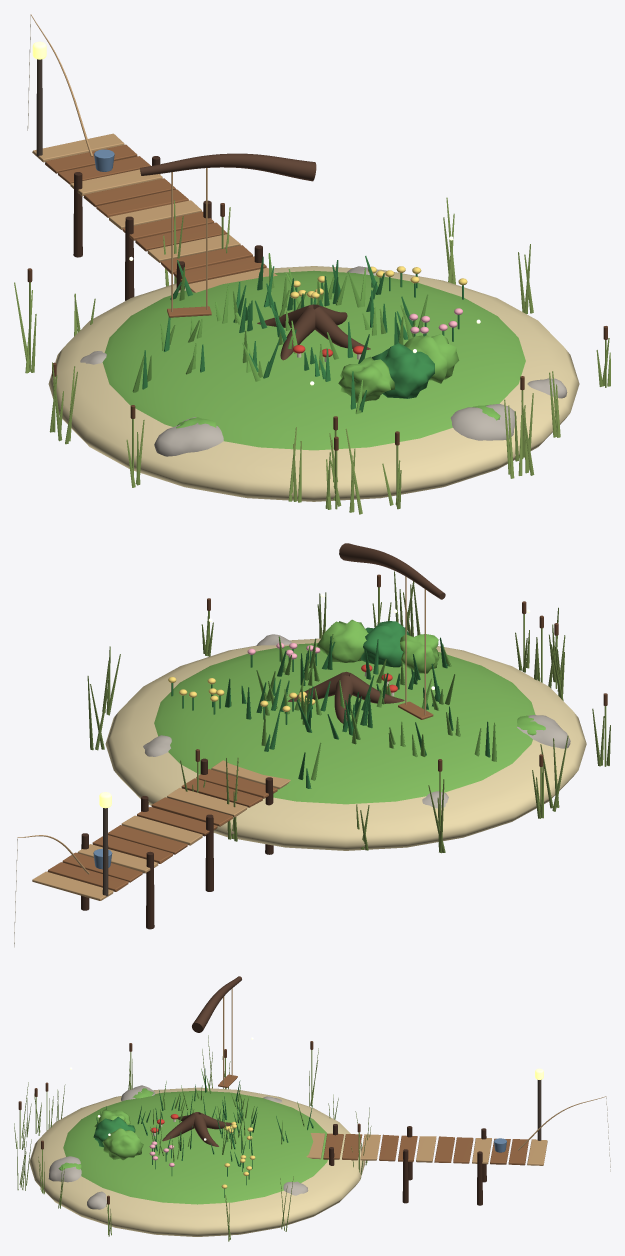
Rendered from islet_08.glb.
The picture shows the model from 3 angles, top to bottom: view 1: azimuth 30°, elevation 25°; view 2: azimuth 150°, elevation 25°; view 3: azimuth 270°, elevation 25°; orthographic projection. The views are drawn at different scales.
Parts seen in each view (by area): view 1: islet_grass.008, islet_sand.008, swing_branch.001, bush.025, rock.049, rock.051, bush.024, bush.026, jetty_plank.008, jetty_plank.007, jetty_plank.006, jetty_plank.012 (+13 smaller); view 2: islet_grass.008, islet_sand.008, bush.026, bush.025, swing_branch.001, bush.024, jetty_plank.006, jetty_plank.012, jetty_plank.003, jetty_plank.007, jetty_plank.004, jetty_plank.011 (+12 smaller); view 3: islet_grass.008, islet_sand.008, bush.026, swing_branch.001, rock.049, bush.025, jetty_plank.006, jetty_plank.008, jetty_plank.003, jetty_plank.007, jetty_plank.012, jetty_plank.004 (+6 smaller).
Boxes of the visible parts, left/top/right/bottom form: islet_grass.008: left=102, top=270, right=525, bottom=450; islet_sand.008: left=48, top=266, right=579, bottom=501; swing_branch.001: left=140, top=153, right=316, bottom=181; bush.025: left=372, top=343, right=434, bottom=398; rock.049: left=450, top=403, right=516, bottom=440; rock.051: left=154, top=417, right=223, bottom=456; bush.024: left=338, top=356, right=394, bottom=402; bush.026: left=404, top=334, right=459, bottom=383; jetty_plank.008: left=83, top=178, right=175, bottom=207; jetty_plank.007: left=96, top=189, right=188, bottom=217; jetty_plank.006: left=109, top=200, right=201, bottom=229; jetty_plank.012: left=32, top=133, right=124, bottom=162; islet_grass.008: left=154, top=643, right=535, bottom=804; islet_sand.008: left=105, top=638, right=586, bottom=850; bush.026: left=317, top=619, right=368, bottom=662; bush.025: left=360, top=621, right=409, bottom=667; swing_branch.001: left=339, top=543, right=445, bottom=599; bush.024: left=400, top=634, right=439, bottom=673; jetty_plank.006: left=121, top=815, right=202, bottom=845; jetty_plank.012: left=32, top=871, right=113, bottom=900; jetty_plank.003: left=167, top=788, right=247, bottom=817; jetty_plank.007: left=108, top=825, right=187, bottom=854; jetty_plank.004: left=151, top=797, right=232, bottom=826; jetty_plank.011: left=47, top=862, right=128, bottom=891; islet_grass.008: left=63, top=1090, right=327, bottom=1204; islet_sand.008: left=29, top=1087, right=365, bottom=1236; bush.026: left=102, top=1128, right=143, bottom=1160; swing_branch.001: left=192, top=976, right=241, bottom=1032; rock.049: left=48, top=1156, right=81, bottom=1182; bush.025: left=93, top=1116, right=135, bottom=1147; jetty_plank.006: left=416, top=1136, right=436, bottom=1162; jetty_plank.008: left=453, top=1137, right=473, bottom=1163; jetty_plank.003: left=360, top=1134, right=380, bottom=1160; jetty_plank.007: left=434, top=1136, right=454, bottom=1162; jetty_plank.012: left=527, top=1139, right=547, bottom=1165; jetty_plank.004: left=379, top=1134, right=398, bottom=1161.
Bounding box in the file's own units: 8.23 × 4.31 × 13.48.
